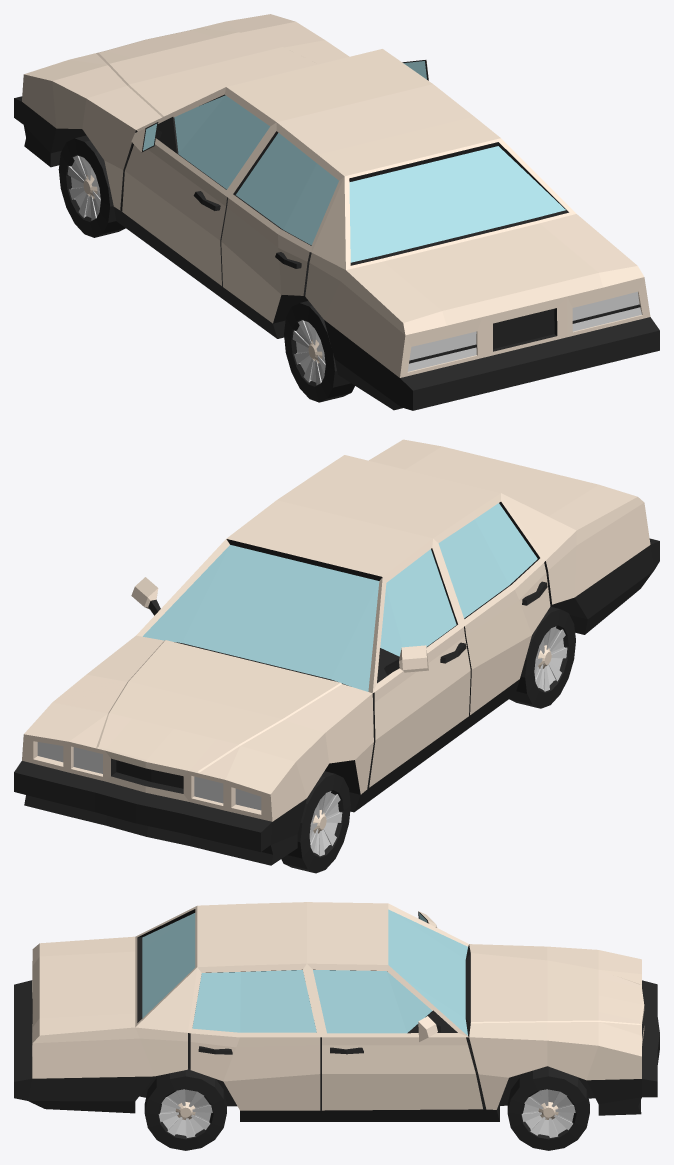
The model's file is Car.glb.
3 renders of one model, top to bottom at view 1: azimuth 30°, elevation 25°; view 2: azimuth 150°, elevation 25°; view 3: azimuth 270°, elevation 25°, orthographic. The views are drawn at different scales.
Parts seen in each view (by area): view 1: Cube.004, Cube.006, Cube.007; view 2: Cube.004, Cube.006, Cube.007; view 3: Cube.004, Cube.008, Cube.005.
Boxes of the visible parts, x1,y1,x2,y2 form: Cube.004: (14, 14, 659, 410); Cube.006: (58, 135, 125, 237); Cube.007: (284, 301, 354, 402); Cube.004: (14, 439, 659, 865); Cube.006: (281, 771, 350, 873); Cube.007: (509, 606, 575, 708); Cube.004: (14, 902, 659, 1121); Cube.008: (507, 1067, 589, 1150); Cube.005: (144, 1068, 226, 1150).
Bounding box in the file's own units: 2.71 × 1.85 × 6.35.
